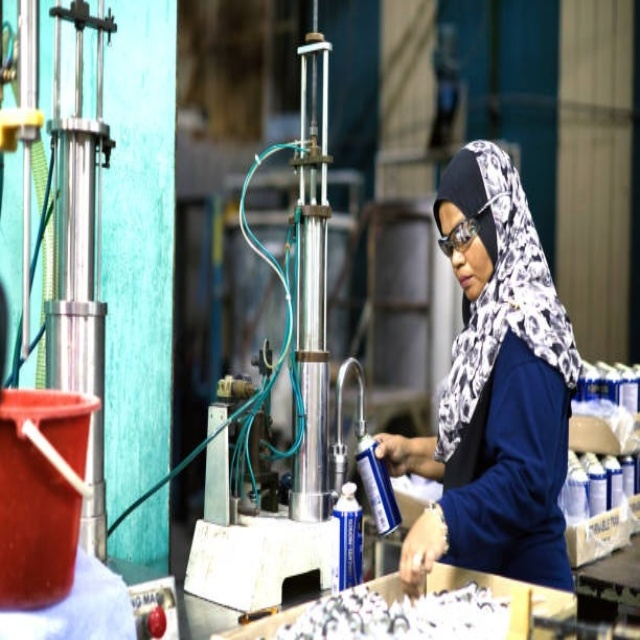Gafas: (437, 213, 485, 260)
Sin_guantes: (397, 506, 447, 592), (371, 432, 429, 477)
Sin_mascara: (453, 267, 482, 300)
